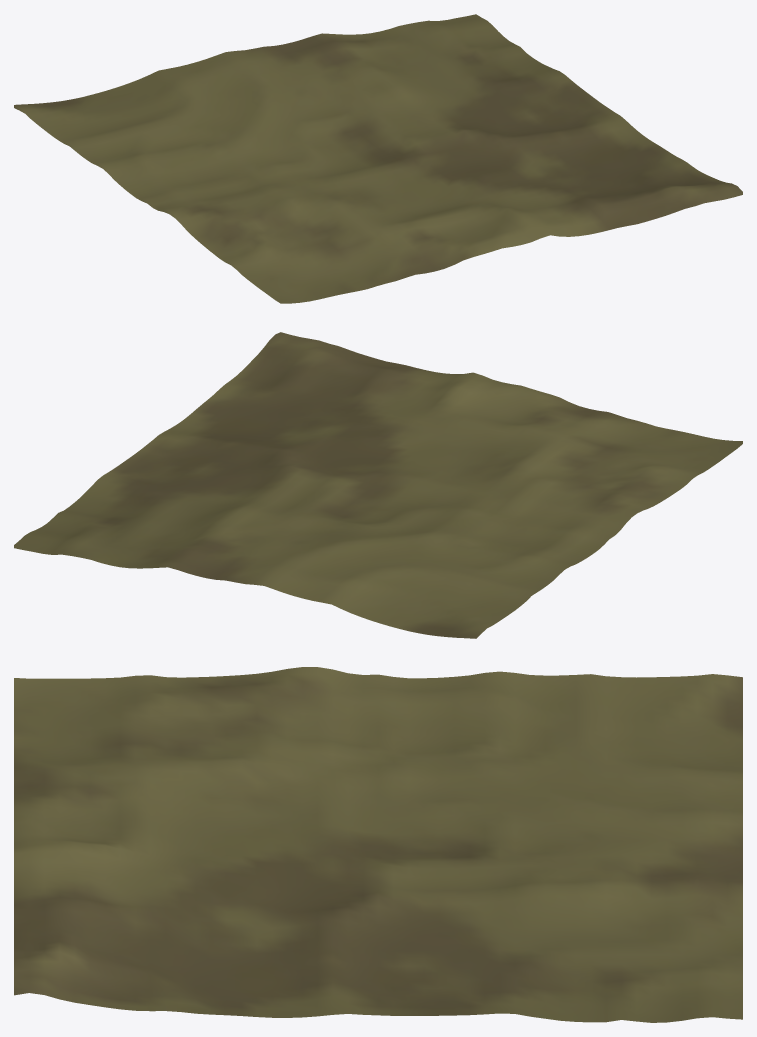
File: land_m_02_06.glb
3 views of the same model, one above another, from view 1: azimuth 30°, elevation 25°; view 2: azimuth 150°, elevation 25°; view 3: azimuth 270°, elevation 25° (orthographic). The views are drawn at different scales.
Visible parts, largest first — view 1: land_m_02_06; view 2: land_m_02_06; view 3: land_m_02_06.
Boxes of the visible parts, <box> form: land_m_02_06: <box>14,14,742,303</box>; land_m_02_06: <box>14,332,742,638</box>; land_m_02_06: <box>14,667,742,1022</box>.
Bounding box in the file's own units: 960 × 69.57 × 960.
